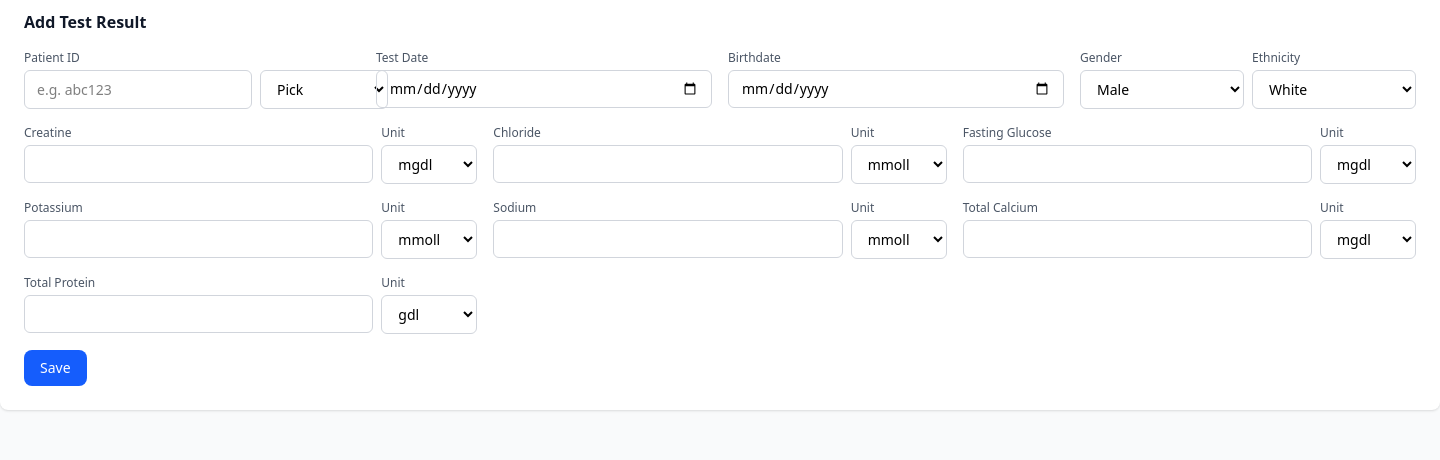
Test: AddDataForm › fills demographics when a patient is picked from the dropdown
Select "existing_456" in the dropdown named "Select existing patient" at (324, 90), box [260, 70, 388, 109]
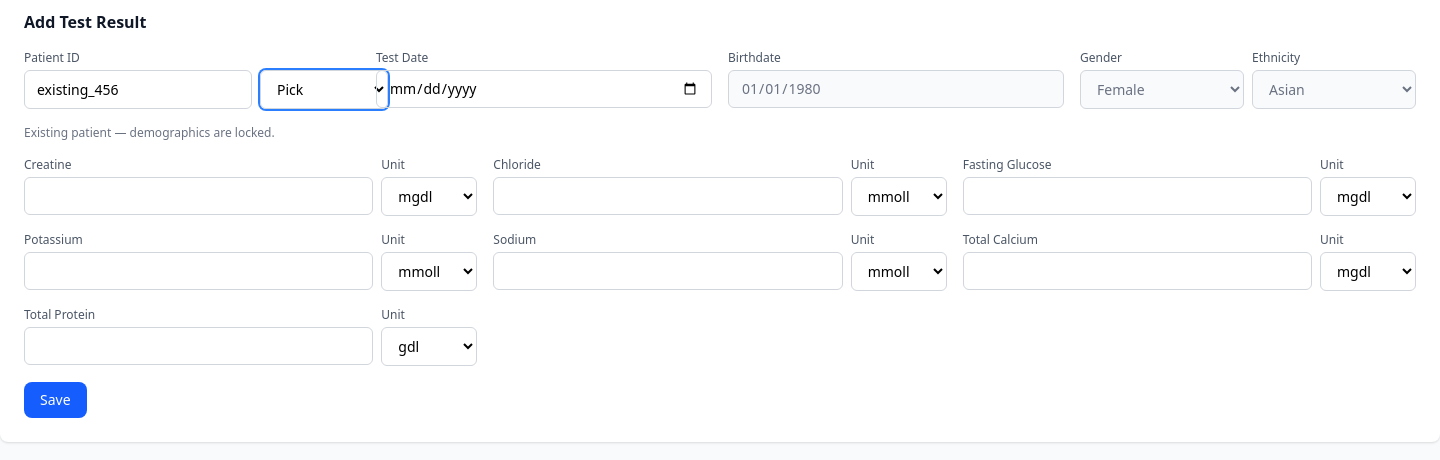
Result: the field labelled "Patient ID" holds "existing_456" at [24, 70, 252, 109]
Result: the date field labelled "Birthdate" holds "1980-01-01" at [728, 70, 1064, 108]
Result: the dropdown labelled "Gender" shows "Female" at [1080, 70, 1244, 109]
